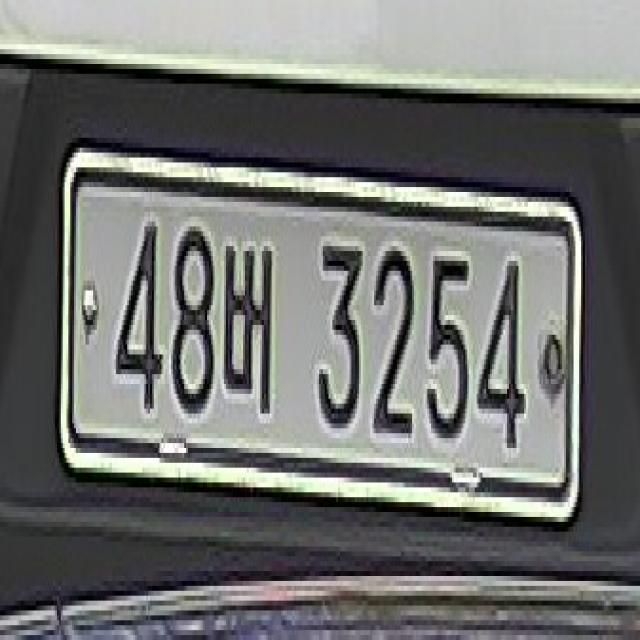2: (366, 229, 418, 453)
3: (308, 224, 364, 448)
4: (474, 241, 530, 472), (112, 206, 164, 429)
5: (422, 236, 471, 458)
8: (167, 208, 217, 436)
beo: (220, 226, 278, 440)
license_plate: (52, 120, 599, 571)
